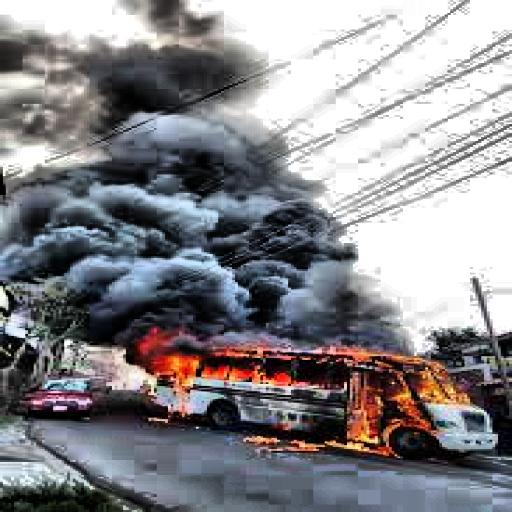fire: (288, 345, 479, 466), (129, 317, 271, 427)
